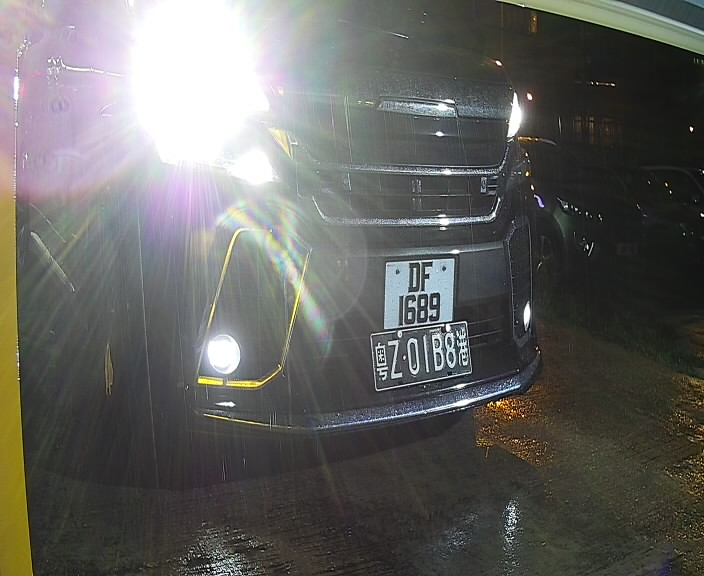Car: (46, 2, 561, 461)
License Plate: (378, 256, 458, 338)
